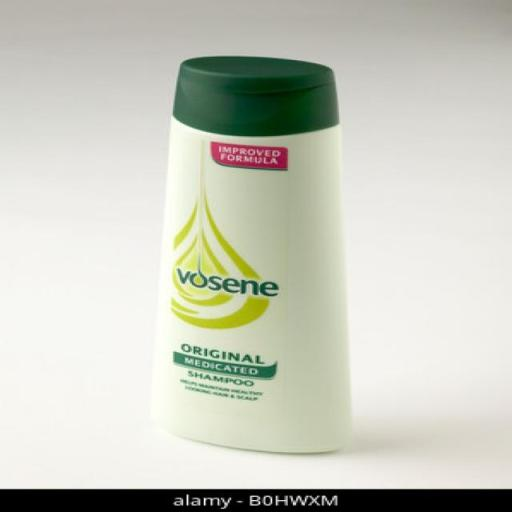plastic: (135, 51, 375, 465)
